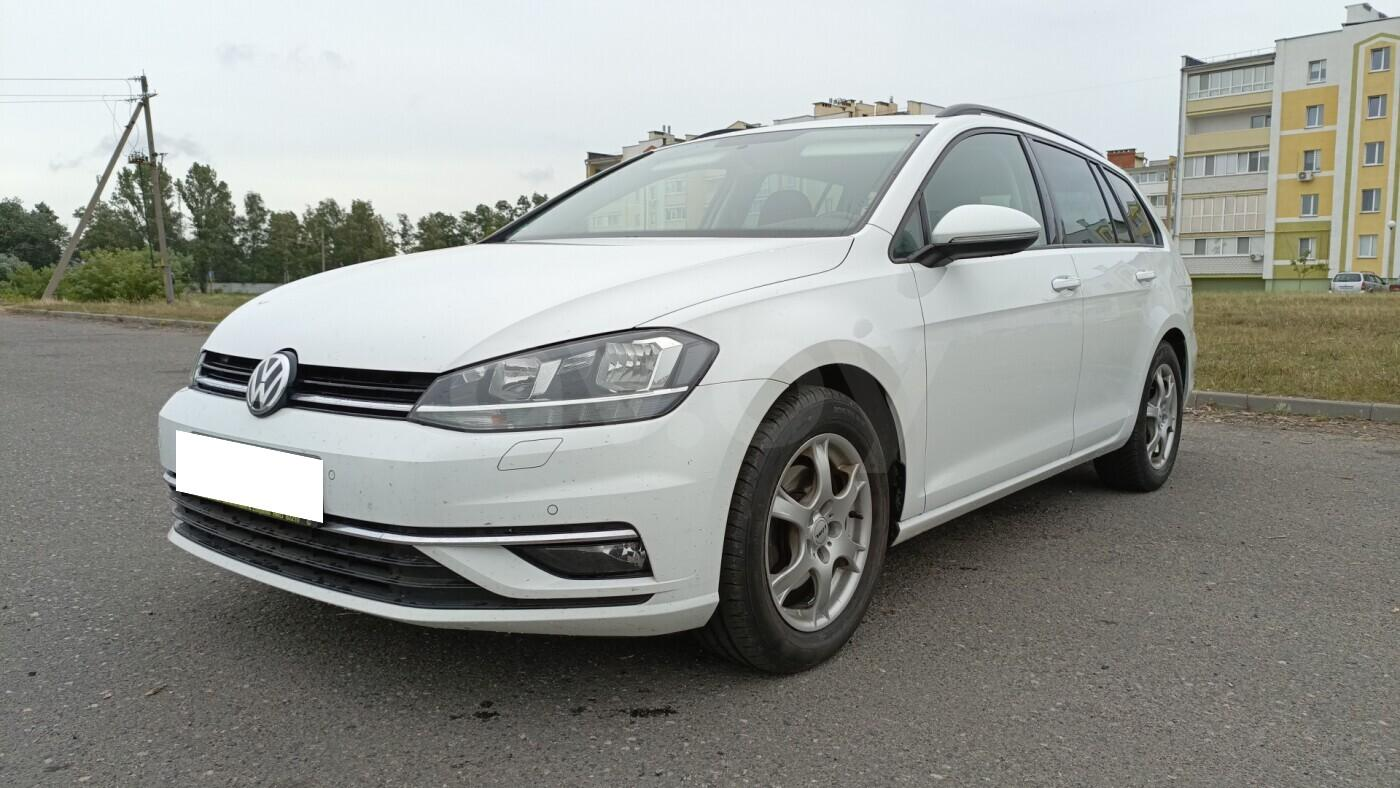Golf_2017-2021: (155, 104, 1200, 666)
